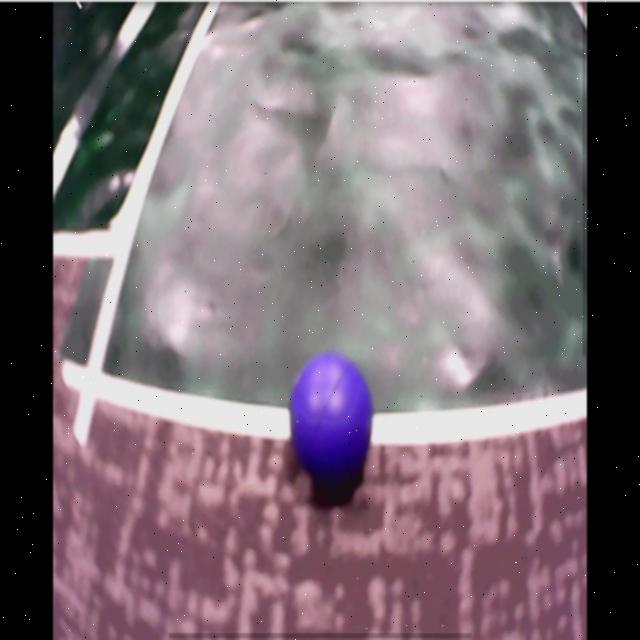ball: (291, 350, 374, 480)
